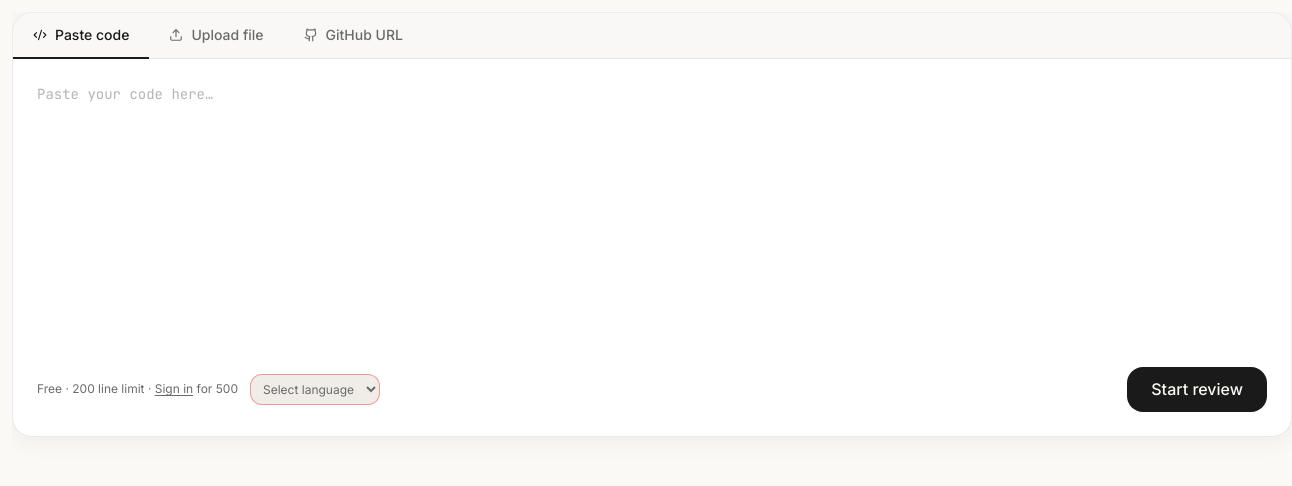
Test: InputPanel — paste tab › shows error when code is empty
This screenshot has width=1292, height=486.
Select "Python" in the dropdown. click: (315, 389)
box: [250,374,380,405]
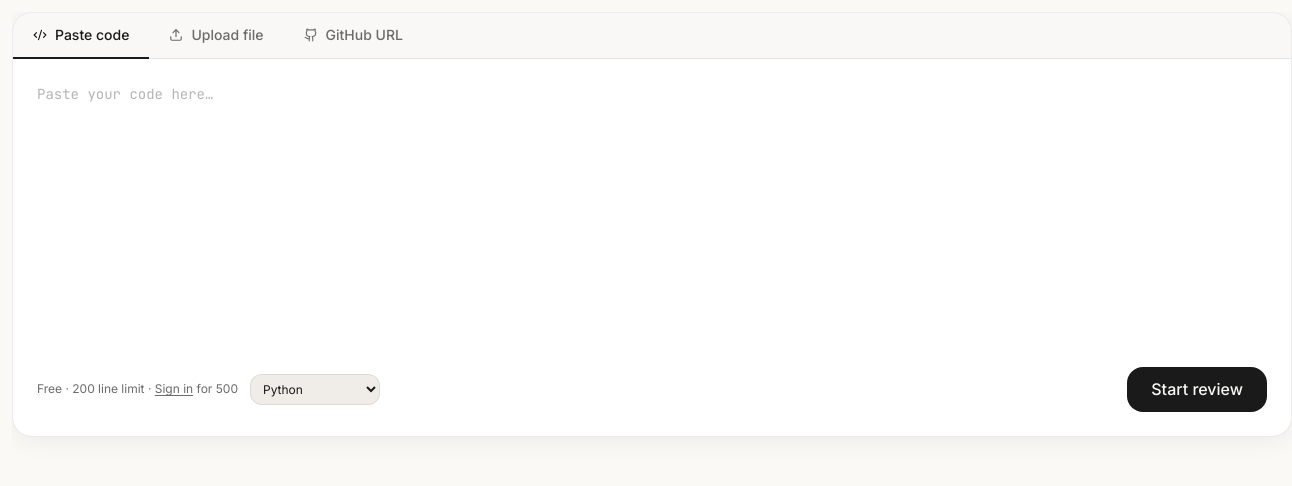
Click the button "Start review". click: (1197, 389)
box: [1127,367,1267,412]
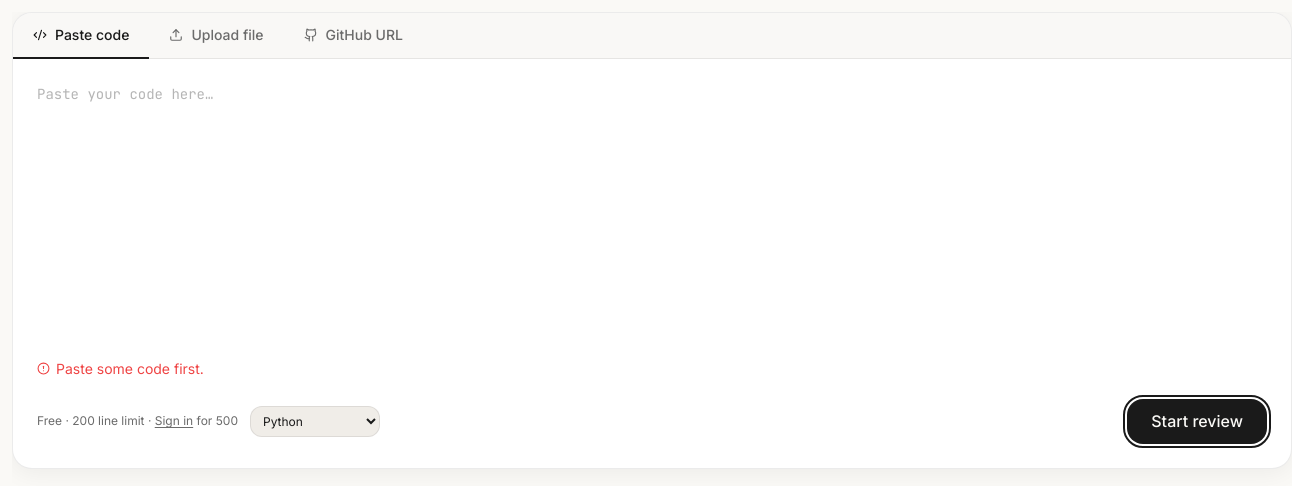
Expected: the text "Paste some code first." is shown, [37,360,204,377]
